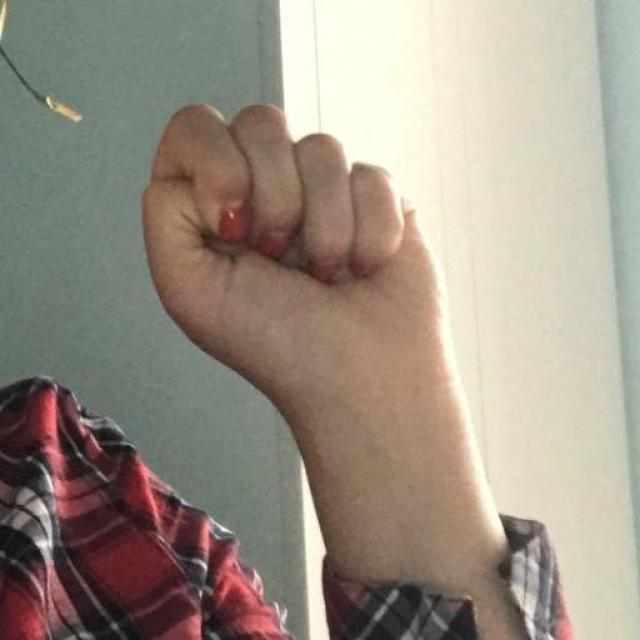hand: (138, 100, 514, 435)
